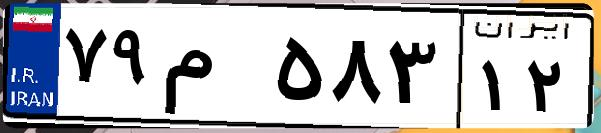1: (475, 38, 525, 113)
2: (525, 38, 570, 115)
3: (385, 28, 445, 110)
5: (270, 28, 330, 110)
7: (57, 26, 110, 100)
8: (330, 28, 385, 110)
9: (110, 28, 158, 98)
م: (158, 20, 270, 120)
